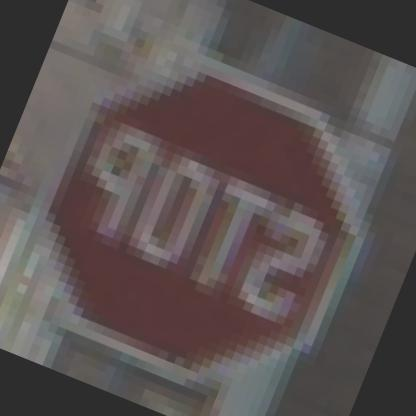stop: (3, 20, 415, 416)
